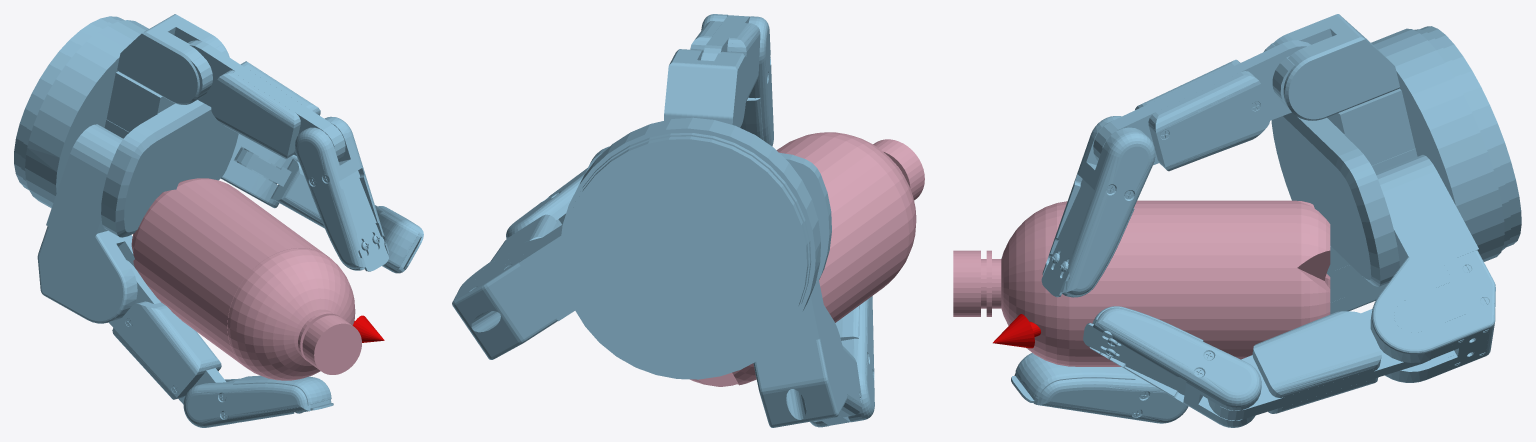
3 views of the same model, side by side, from view 1: azimuth 30°, elevation 25°; view 2: azimuth 150°, elevation 25°; view 3: azimuth 270°, elevation 25° (orthographic). The views are drawn at different scales.
Parts seen in each view (by area): view 1: world, water_bottle.stl; view 2: world, water_bottle.stl; view 3: world, water_bottle.stl.
Boxes of the visible parts, x1,y1,x2,y2 form: world: (14, 14, 423, 427); water_bottle.stl: (131, 178, 361, 380); world: (452, 14, 874, 427); water_bottle.stl: (690, 132, 924, 386); world: (993, 14, 1521, 427); water_bottle.stl: (953, 200, 1330, 366).
Size of the model in its own units: 0.158 by 0.1625 by 0.2058.
